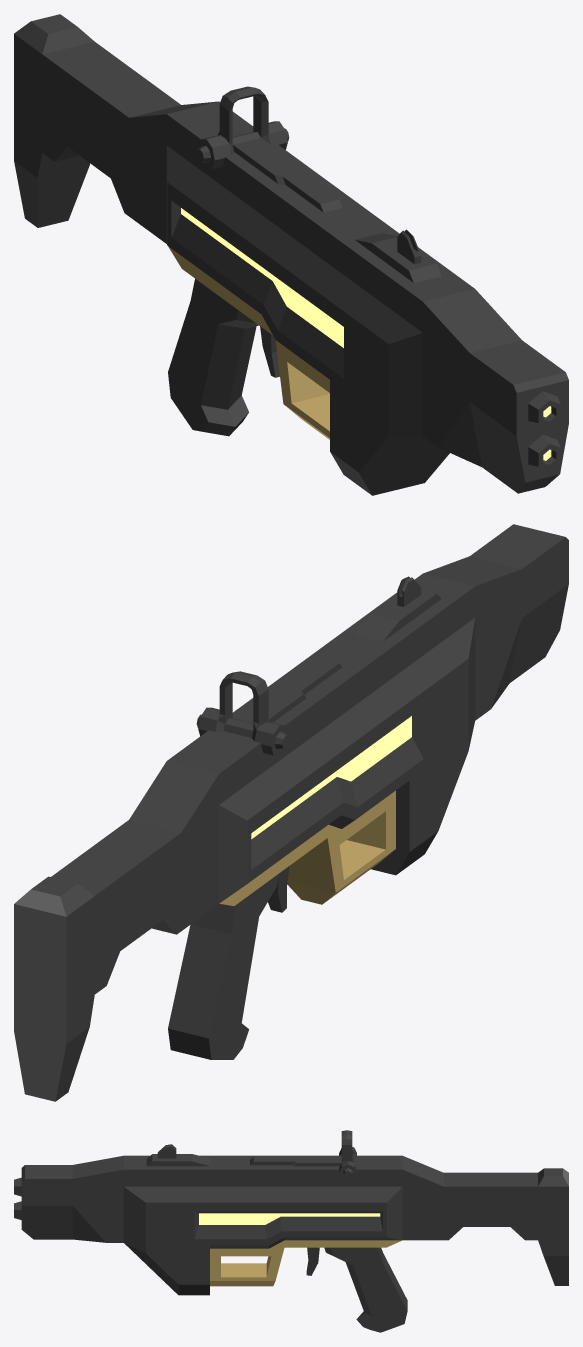
The model's file is WillySlapper.fbx.
3 renders of one model, top to bottom at view 1: azimuth 30°, elevation 25°; view 2: azimuth 150°, elevation 25°; view 3: azimuth 270°, elevation 25°, orthographic. The views are drawn at different scales.
Parts seen in each view (by area): view 1: WillySlapper; view 2: WillySlapper; view 3: WillySlapper.
Boxes of the visible parts, <box> form: WillySlapper: <box>14,14,568,495</box>; WillySlapper: <box>14,524,568,1101</box>; WillySlapper: <box>14,1130,568,1332</box>.
Bounding box in the file's own units: 63.29 × 256 × 653.
